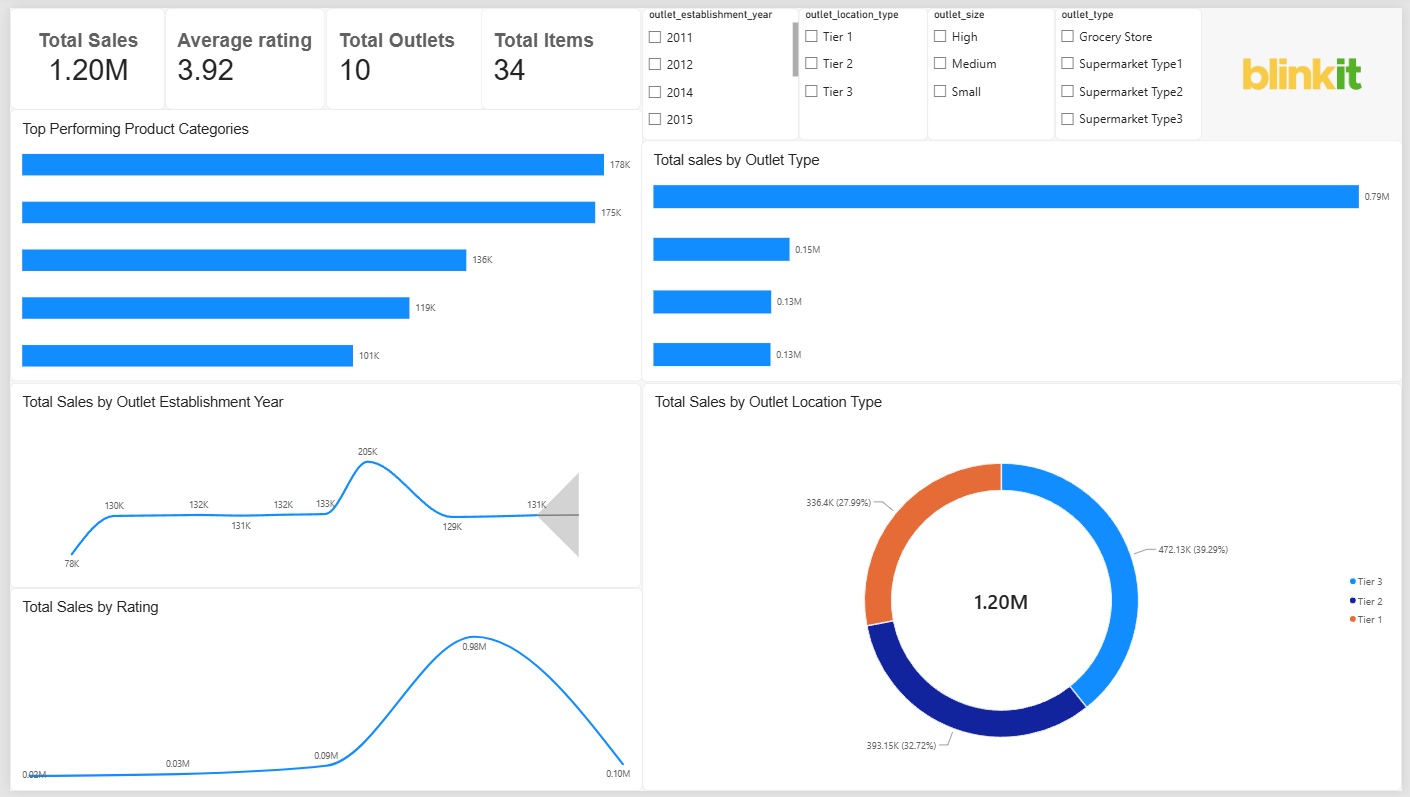

Layout of this report page (visuals, bound fields, positions):
{"tool":"powerbi","page":{"name":"Executive Summary","canvas":[1920,1080],"ordinal":0},"visuals":[{"type":"cardVisual","fields":{"Data":["Blinkit-Grocery-Data-Cleaned.Total_sales"]},"box":[0,0,214.5,140.9],"z":0},{"type":"cardVisual","fields":{"Data":["Blinkit-Grocery-Data-Cleaned.Avg_rating"]},"box":[214.5,0,220.9,140.9],"z":1000},{"type":"cardVisual","fields":{"Data":["Blinkit-Grocery-Data-Cleaned.Total_outlets"]},"box":[435.5,0,220.9,140.9],"z":2000},{"type":"cardVisual","fields":{"Data":["Blinkit-Grocery-Data-Cleaned.Total_items"]},"box":[650,0,220.9,140.9],"z":3000},{"type":"slicer","fields":{"Values":["Blinkit-Grocery-Data-Cleaned.outlet_establishment_year"]},"box":[872,0,216,182],"z":4000},{"type":"slicer","fields":{"Values":["Blinkit-Grocery-Data-Cleaned.outlet_location_type"]},"box":[1088,0,178,182],"z":5000},{"type":"slicer","fields":{"Values":["Blinkit-Grocery-Data-Cleaned.outlet_size"]},"box":[1266,0,176,182],"z":6000},{"type":"barChart","title":"Top Performing Product Categories","fields":{"Category":["Blinkit-Grocery-Data-Cleaned.item_type"],"Y":["Blinkit-Grocery-Data-Cleaned.Total_sales"]},"box":[0,140,872.5,375],"z":7000},{"type":"barChart","title":"Total sales by Outlet Type","fields":{"Category":["Blinkit-Grocery-Data-Cleaned.outlet_type"],"Y":["Blinkit-Grocery-Data-Cleaned.Total_sales"]},"box":[870,182.5,1050,332.5],"z":8000},{"type":"donutChart","title":"Total Sales by Outlet Location Type","fields":{"Category":["Blinkit-Grocery-Data-Cleaned.outlet_location_type"],"Y":["Blinkit-Grocery-Data-Cleaned.Total_sales"]},"box":[872.5,517.5,1047.5,562.5],"z":9000},{"type":"lineChart","title":"Total Sales by Outlet Establishment Year","fields":{"Category":["Blinkit-Grocery-Data-Cleaned.outlet_establishment_year"],"Y":["Blinkit-Grocery-Data-Cleaned.Total_sales"]},"box":[0,517.5,870,282.5],"z":10000},{"type":"lineChart","title":"Total Sales by Rating","fields":{"Category":["Blinkit-Grocery-Data-Cleaned.rating"],"Y":["Blinkit-Grocery-Data-Cleaned.Total_sales"]},"box":[0,800,872.5,280],"z":11000},{"type":"slicer","fields":{"Values":["Blinkit-Grocery-Data-Cleaned.outlet_type"]},"box":[1442,0,202,182],"z":12000},{"type":"image","box":[1644,0,276,182],"z":13000}]}

Visuals, with their boxes in screenshot pixels (x1, y1, x2, y2), scaled from the page's 1920x1080 canvas onto the 1410x797 screenshot:
cardVisual - Blinkit-Grocery-Data-Cleaned.Total_sales: [left=0, top=0, right=158, bottom=104]
cardVisual - Blinkit-Grocery-Data-Cleaned.Avg_rating: [left=158, top=0, right=320, bottom=104]
cardVisual - Blinkit-Grocery-Data-Cleaned.Total_outlets: [left=320, top=0, right=482, bottom=104]
cardVisual - Blinkit-Grocery-Data-Cleaned.Total_items: [left=477, top=0, right=640, bottom=104]
slicer - Blinkit-Grocery-Data-Cleaned.outlet_establishment_year: [left=640, top=0, right=799, bottom=134]
slicer - Blinkit-Grocery-Data-Cleaned.outlet_location_type: [left=799, top=0, right=930, bottom=134]
slicer - Blinkit-Grocery-Data-Cleaned.outlet_size: [left=930, top=0, right=1059, bottom=134]
"Top Performing Product Categories" barChart: [left=0, top=103, right=641, bottom=380]
"Total sales by Outlet Type" barChart: [left=639, top=135, right=1409, bottom=380]
"Total Sales by Outlet Location Type" donutChart: [left=641, top=382, right=1409, bottom=796]
"Total Sales by Outlet Establishment Year" lineChart: [left=0, top=382, right=639, bottom=590]
"Total Sales by Rating" lineChart: [left=0, top=590, right=641, bottom=796]
slicer - Blinkit-Grocery-Data-Cleaned.outlet_type: [left=1059, top=0, right=1207, bottom=134]
image: [left=1207, top=0, right=1409, bottom=134]
